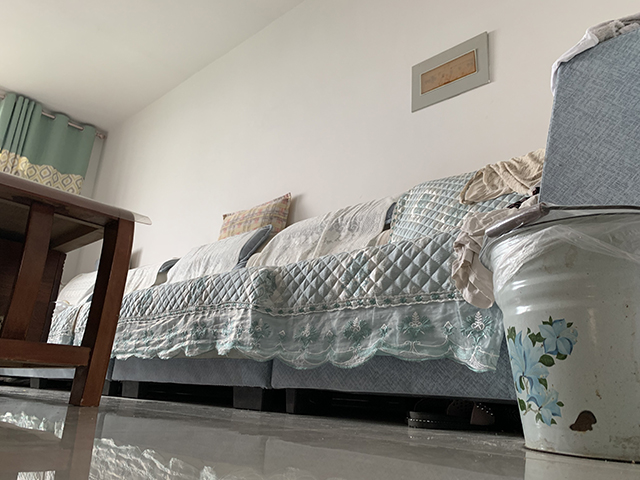sofa: (47, 10, 640, 417)
table: (1, 173, 154, 408)
trashcan: (478, 199, 640, 465)
